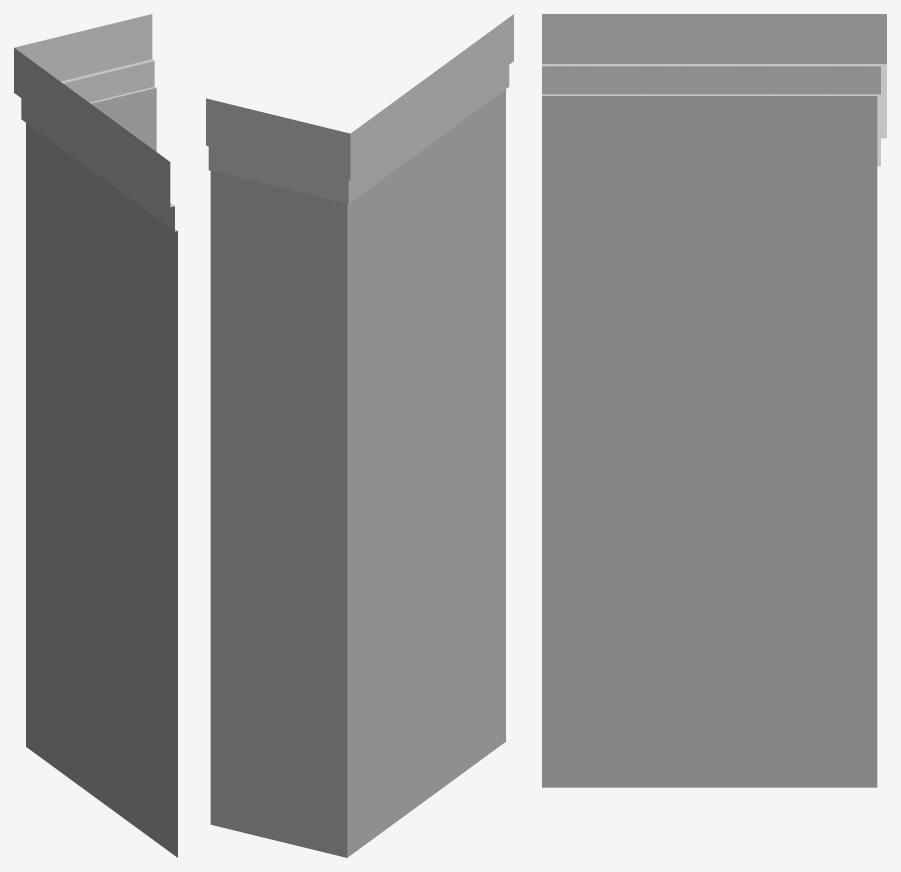
Rendered from SM_Wall_Brick_2.fbx.
3 views of the same model, side by side, from view 1: azimuth 30°, elevation 25°; view 2: azimuth 150°, elevation 25°; view 3: azimuth 270°, elevation 25° (orthographic). The views are drawn at different scales.
Visible parts, largest first — view 1: SM_Wall_Brick_2; view 2: SM_Wall_Brick_2; view 3: SM_Wall_Brick_2.
Boxes of the visible parts, box(x1,y1,x2,y2) form: SM_Wall_Brick_2: box(14, 14, 177, 857); SM_Wall_Brick_2: box(206, 14, 513, 857); SM_Wall_Brick_2: box(542, 14, 886, 787).
Bounding box in the file's own units: 91.73 × 180 × 443.
